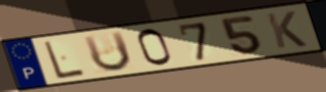0: (136, 27, 173, 67)
5: (217, 14, 263, 56)
7: (176, 21, 209, 62)
K: (264, 9, 310, 50)
L: (42, 39, 88, 81)
U: (80, 29, 134, 74)
